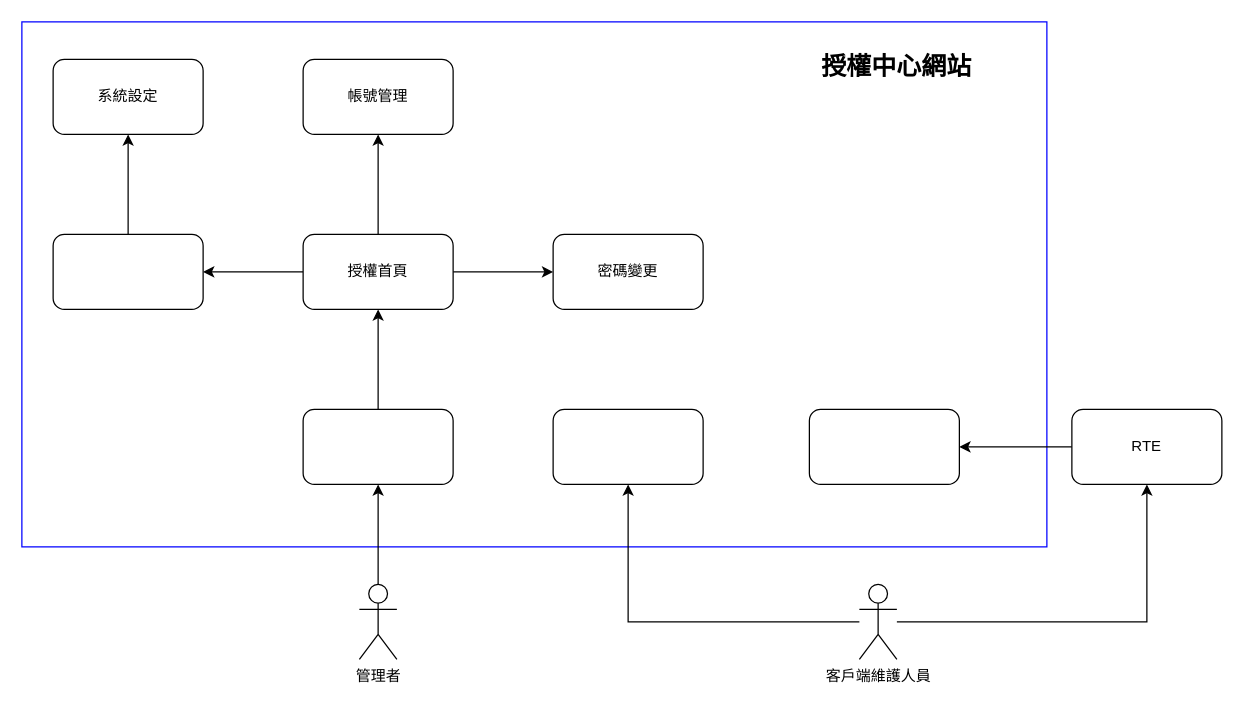
Some shapes in this 1244 by 708 pixel diagram are drawn without their labels. Each missing label, with the centre of its shape:
企業設定: the point at 127,271
登入畫面: the point at 377,446
線上啟用API: the point at 883,446
離線啟用頁面: the point at 627,446
